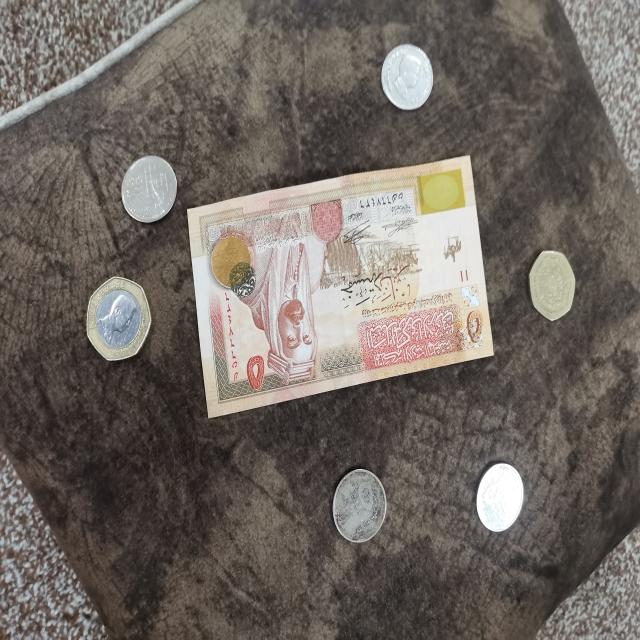25-coins: (524, 248, 577, 322)
5-coins: (331, 469, 388, 545), (120, 155, 178, 224), (381, 42, 435, 111), (474, 462, 524, 534)
5-dinar: (187, 153, 495, 420)
50-coins: (85, 277, 153, 361)
